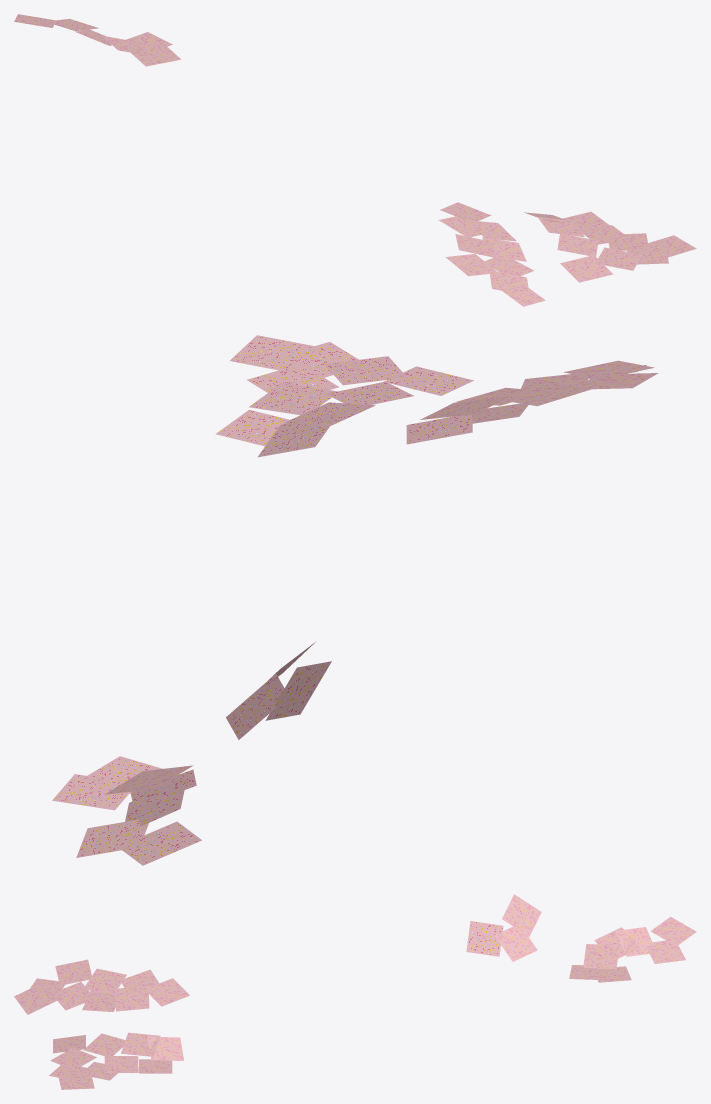
The model's file is kd_stage_135fe0_4_72.glb.
The picture shows the model from 3 angles, top to bottom: view 1: azimuth 30°, elevation 25°; view 2: azimuth 150°, elevation 25°; view 3: azimuth 270°, elevation 25°; orthographic projection. The views are drawn at different scales.
Parts seen in each view (by area): view 1: kd_stage_135fe0_4_72; view 2: kd_stage_135fe0_4_72; view 3: kd_stage_135fe0_4_72.
Boxes of the visible parts, x1,y1,x2,y2 form: kd_stage_135fe0_4_72: (14, 14, 696, 306); kd_stage_135fe0_4_72: (52, 335, 658, 865); kd_stage_135fe0_4_72: (14, 894, 696, 1089).
Bounding box in the file's own units: 30.16 × 7.1 × 64.34.
Materials: 1 (1 with a texture image).
